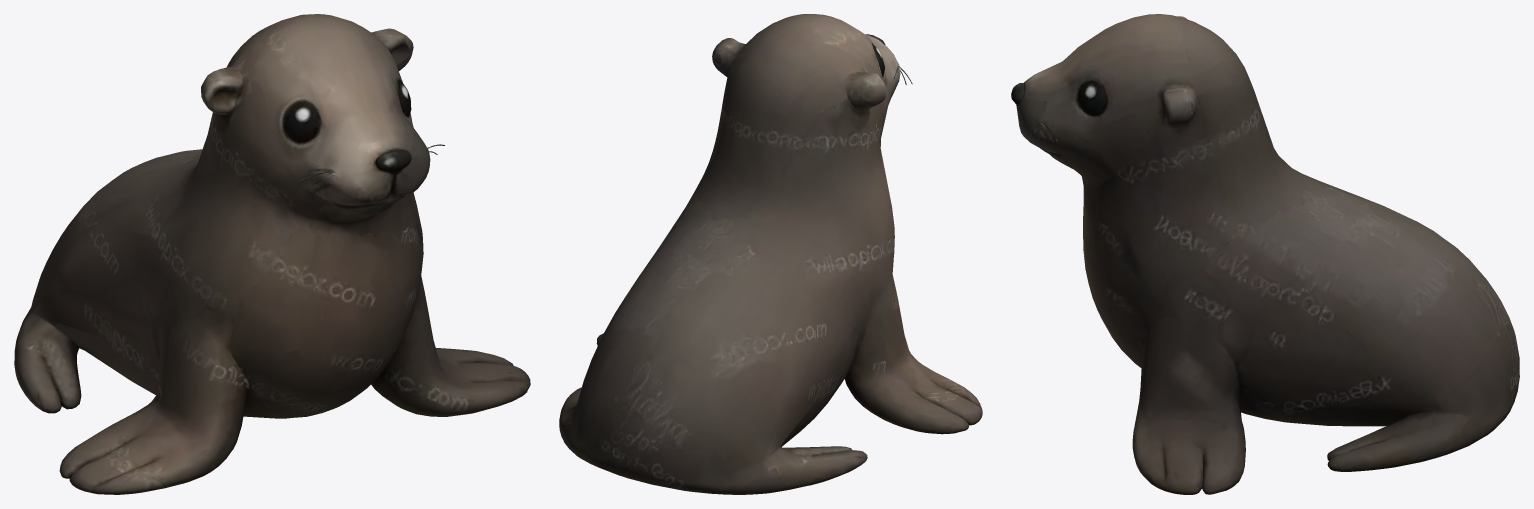
File: sealion_pbr.glb
The picture shows the model from 3 angles, left to right: view 1: azimuth 30°, elevation 25°; view 2: azimuth 150°, elevation 25°; view 3: azimuth 270°, elevation 25°; orthographic projection. The views are drawn at different scales.
Parts seen in each view (by area): view 1: model.010; view 2: model.010; view 3: model.010.
Part boxes in pixels (x1,y1,x2,y2): model.010: (14,14,530,494); model.010: (559,14,982,494); model.010: (1011,14,1519,494).
Bounding box in the file's own units: 1.47 × 1.32 × 1.61.
Materials: 1 (1 with a texture image).
